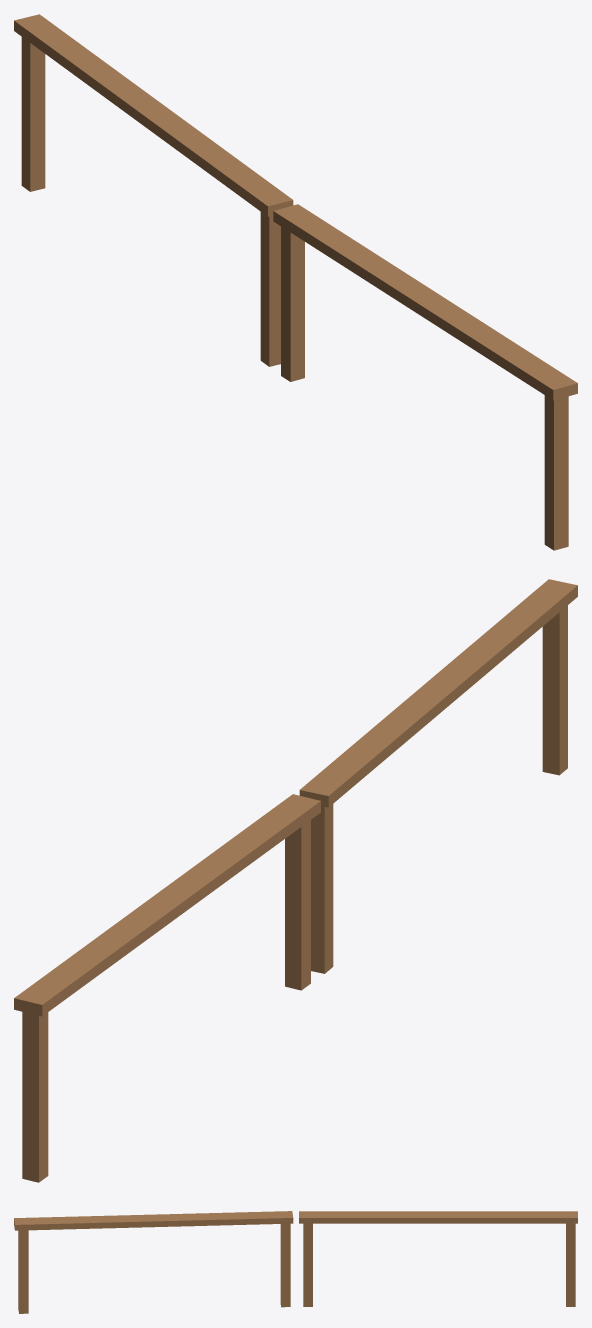
Rendered from SM_fence_106a.gltf.
3 views of the same model, one above another, from view 1: azimuth 30°, elevation 25°; view 2: azimuth 150°, elevation 25°; view 3: azimuth 270°, elevation 25° (orthographic). The views are drawn at different scales.
Visible parts, largest first — view 1: SM_fence_106a; view 2: SM_fence_106a; view 3: SM_fence_106a.
Boxes of the visible parts, box(x1,y1,x2,y2) form: SM_fence_106a: box(14, 14, 577, 550); SM_fence_106a: box(14, 579, 577, 1182); SM_fence_106a: box(14, 1211, 577, 1313).
Size of the model in its own units: 0.3469 by 1.05 by 5.93.
Materials: 1 (1 with a texture image).
